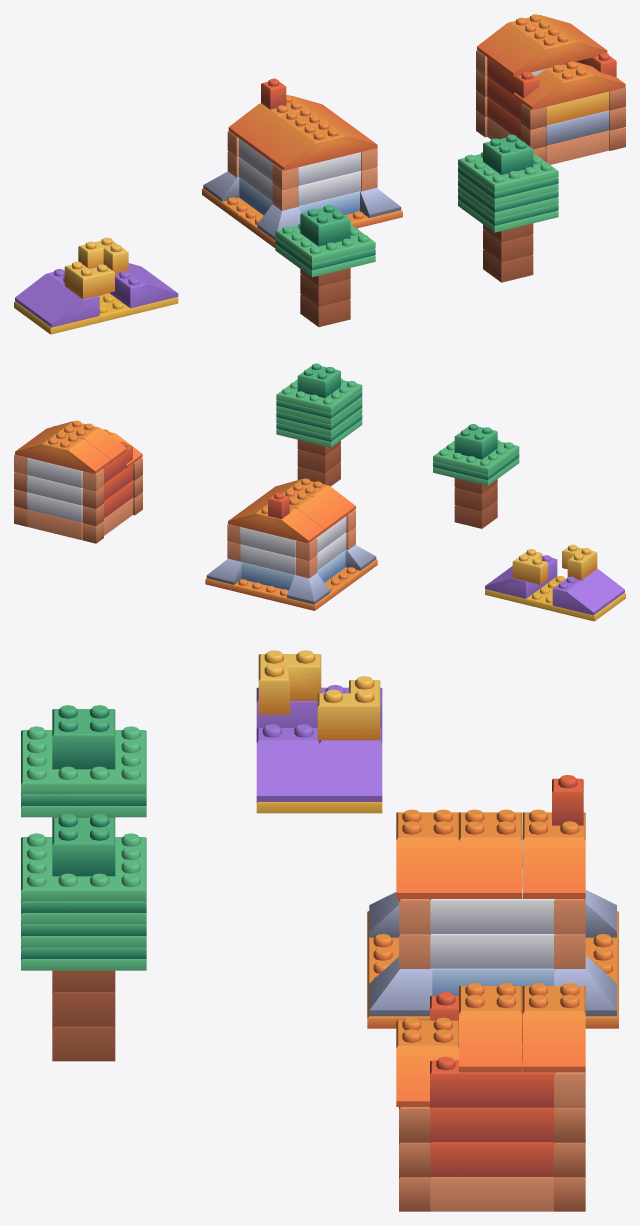
The model's file is LegoProps.fbx.
3 renders of one model, top to bottom at view 1: azimuth 30°, elevation 25°; view 2: azimuth 150°, elevation 25°; view 3: azimuth 270°, elevation 25°, orthographic. The views are drawn at different scales.
Visible parts, largest first — view 1: round-hq-plate-4x8.001, round-hq-brick-1x4.001, round-hq-brick-2x2.005, round-hq-plate-4x8, round-hq-brick-2x2.001; view 2: round-hq-plate-4x8.001, round-hq-brick-1x4.001, round-hq-brick-2x2.005, round-hq-plate-4x8, round-hq-brick-2x2.001; view 3: round-hq-plate-4x8.001, round-hq-brick-1x4.001, round-hq-brick-2x2.005, round-hq-plate-4x8, round-hq-brick-2x2.001.
Part boxes in pixels (x1,y1,x2,y2): round-hq-plate-4x8.001: [202, 78, 402, 247]; round-hq-brick-1x4.001: [476, 14, 625, 164]; round-hq-brick-2x2.005: [458, 134, 558, 282]; round-hq-plate-4x8: [14, 237, 178, 334]; round-hq-brick-2x2.001: [275, 205, 375, 326]; round-hq-plate-4x8.001: [205, 478, 377, 610]; round-hq-brick-1x4.001: [14, 420, 142, 543]; round-hq-brick-2x2.005: [276, 363, 362, 486]; round-hq-plate-4x8: [485, 544, 625, 621]; round-hq-brick-2x2.001: [433, 424, 519, 528]; round-hq-plate-4x8.001: [367, 775, 618, 1028]; round-hq-brick-1x4.001: [396, 983, 585, 1211]; round-hq-brick-2x2.005: [21, 814, 146, 1061]; round-hq-plate-4x8: [256, 650, 382, 813]; round-hq-brick-2x2.001: [21, 705, 146, 818].
Bounding box in the file's own units: 30.72 × 6.21 × 15.02.
Materials: 1 (1 with a texture image).
